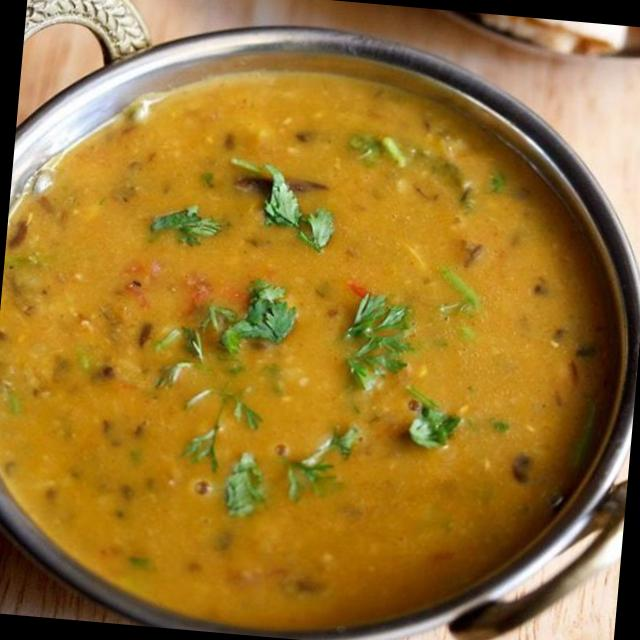dal: (0, 44, 634, 640)
